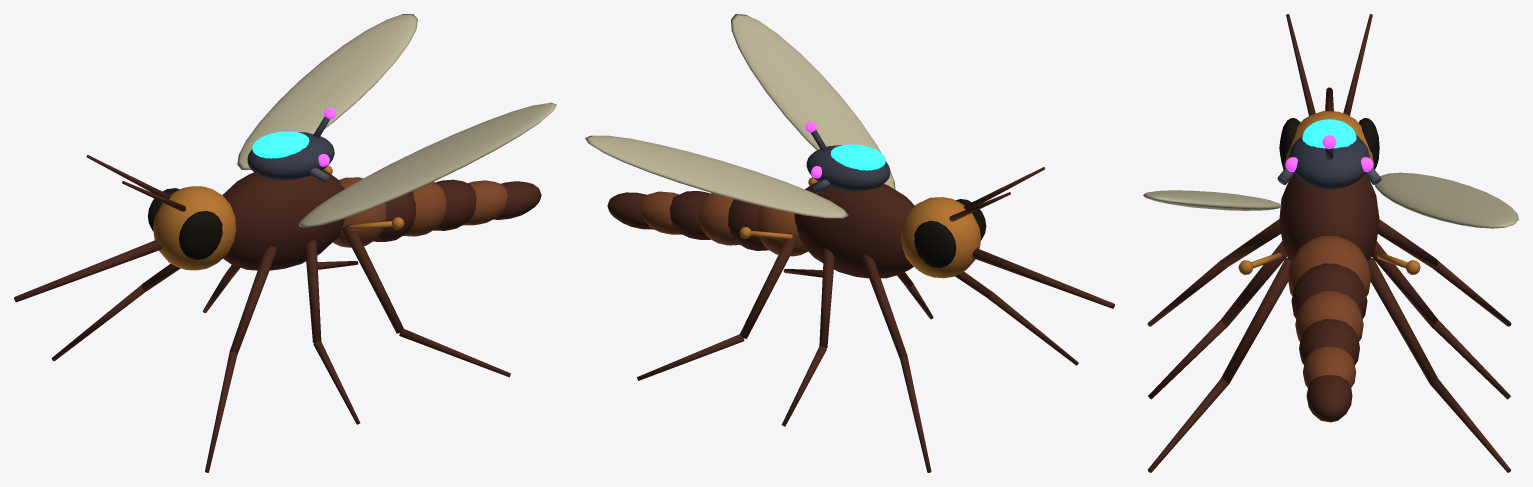
File: controlled_mosquito_lite.glb
The picture shows the model from 3 angles, left to right: view 1: azimuth 30°, elevation 25°; view 2: azimuth 150°, elevation 25°; view 3: azimuth 270°, elevation 25°; orthographic projection. The views are drawn at different scales.
Parts seen in each view (by area): view 1: NaturalFaunaLiteMesh, AlienControlDeviceLiteMesh; view 2: NaturalFaunaLiteMesh, AlienControlDeviceLiteMesh; view 3: NaturalFaunaLiteMesh, AlienControlDeviceLiteMesh.
Part boxes in pixels (bbox=[...]): NaturalFaunaLiteMesh: bbox=[14, 14, 556, 472]; AlienControlDeviceLiteMesh: bbox=[247, 107, 335, 182]; NaturalFaunaLiteMesh: bbox=[585, 14, 1114, 472]; AlienControlDeviceLiteMesh: bbox=[805, 121, 890, 193]; NaturalFaunaLiteMesh: bbox=[1143, 14, 1518, 472]; AlienControlDeviceLiteMesh: bbox=[1277, 119, 1381, 189].
Size of the model in its own units: 1.7 by 0.8675 by 0.8993.
